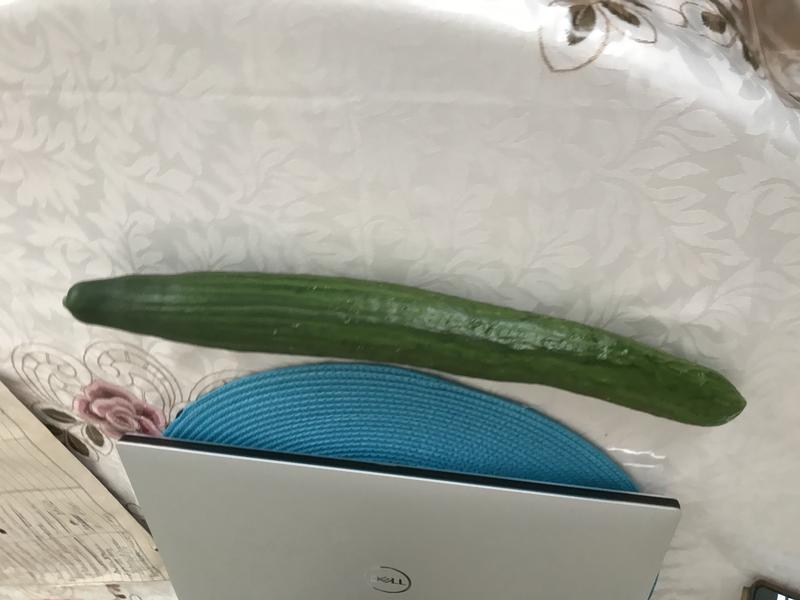cucumber: (60, 262, 758, 436)
